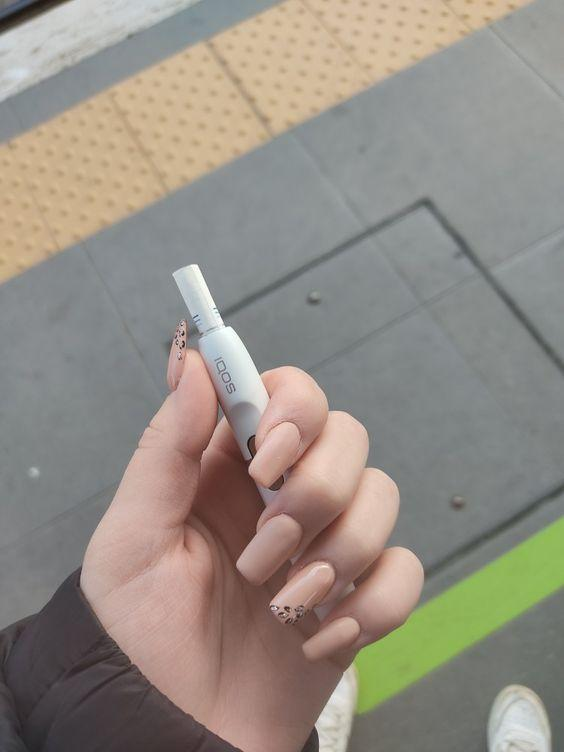iqos: (171, 264, 292, 504)
